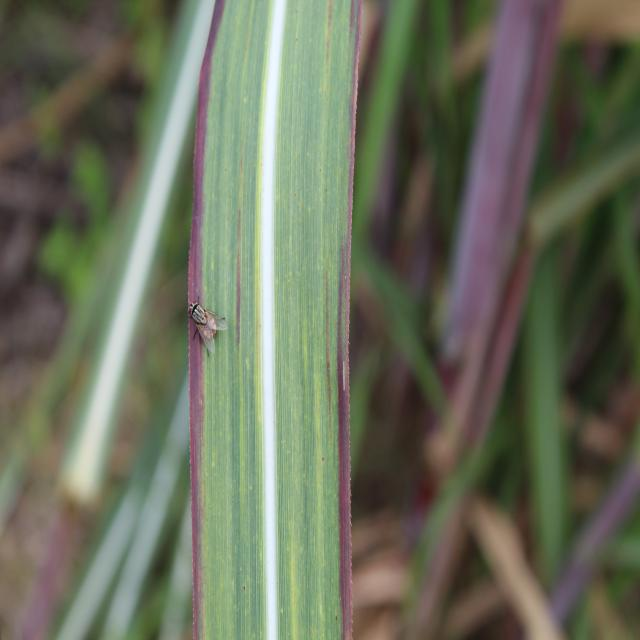Sugarcane: (185, 0, 356, 640)
